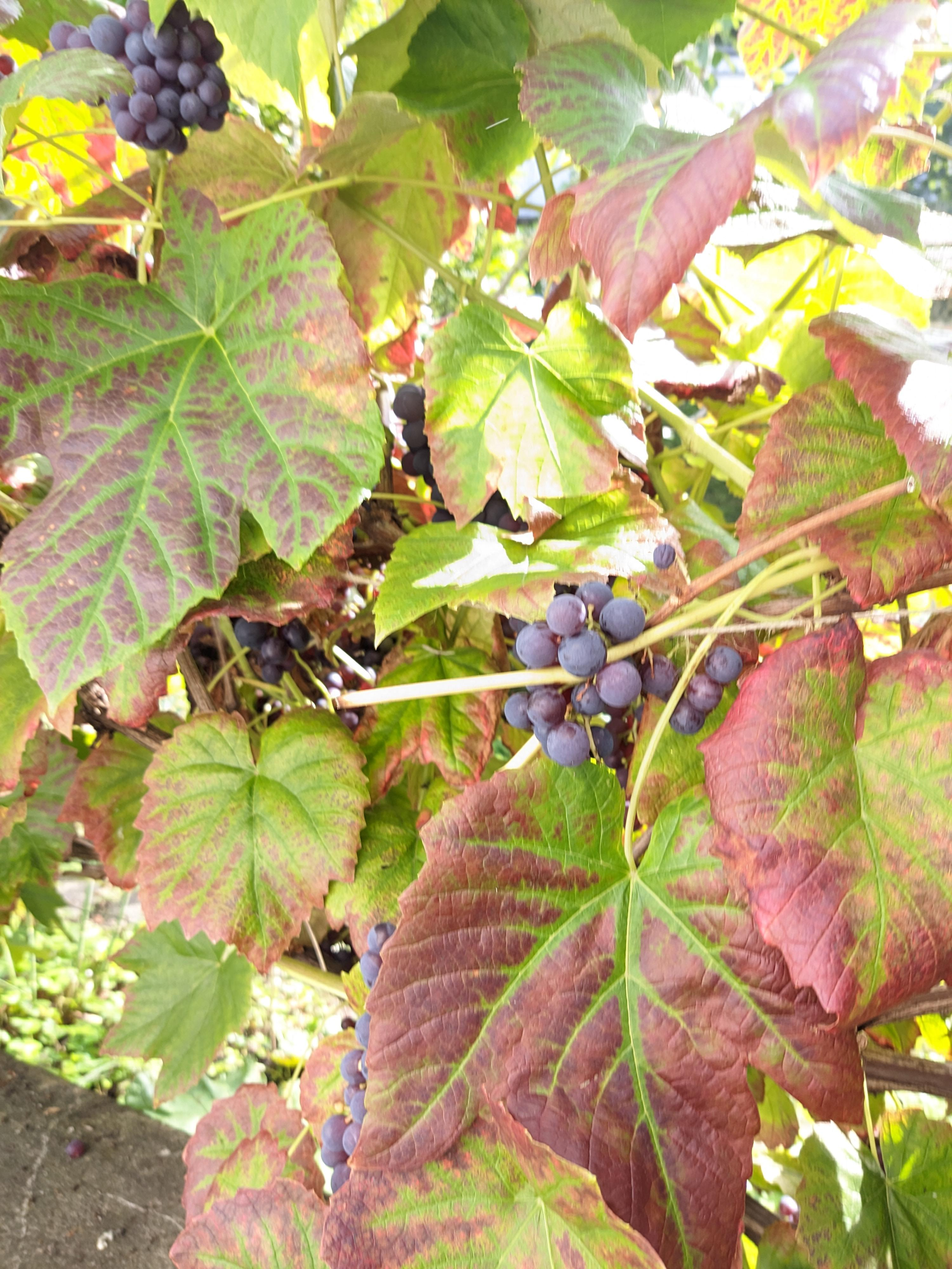Grape Ripe: (502, 580, 743, 768), (46, 0, 232, 156), (387, 376, 523, 530), (318, 923, 394, 1193), (306, 630, 393, 726), (238, 610, 311, 680)
